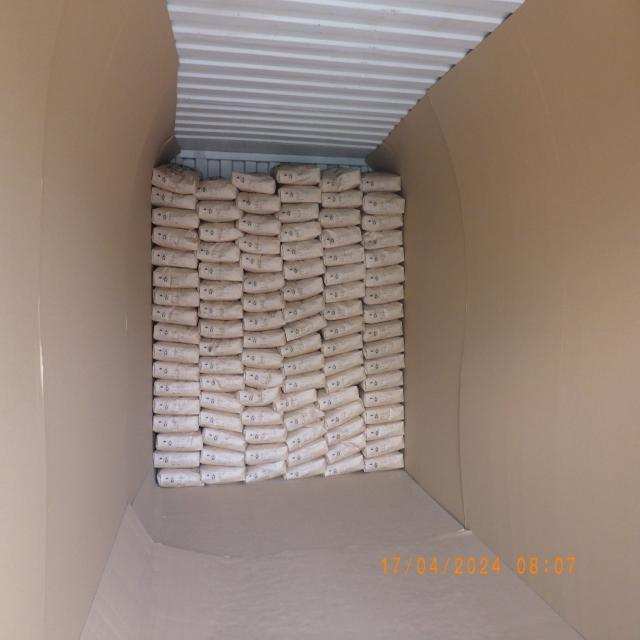gunny_bag: (278, 295, 324, 328), (152, 165, 200, 194), (285, 419, 327, 452), (326, 432, 367, 465), (324, 401, 366, 432), (326, 364, 368, 394), (288, 438, 330, 468), (151, 227, 201, 252), (326, 415, 366, 446), (286, 313, 328, 342), (282, 404, 322, 434), (198, 408, 244, 434), (318, 384, 362, 411), (202, 428, 249, 453), (279, 333, 322, 360), (324, 348, 364, 377), (151, 188, 199, 212), (270, 387, 316, 412), (199, 389, 245, 414), (154, 341, 200, 366), (280, 276, 324, 302), (153, 245, 200, 269), (323, 314, 366, 340), (196, 201, 244, 224), (234, 190, 280, 214), (152, 207, 200, 230), (238, 212, 284, 236), (154, 323, 202, 346), (153, 266, 201, 289), (280, 351, 324, 376), (363, 336, 405, 362), (154, 432, 203, 454), (324, 263, 367, 288), (194, 241, 240, 264), (362, 192, 406, 216), (152, 359, 200, 381), (320, 168, 364, 192), (278, 222, 322, 246), (152, 286, 200, 308), (322, 333, 364, 358), (325, 452, 365, 478), (197, 300, 244, 322), (232, 171, 276, 194), (198, 280, 244, 302), (241, 272, 285, 295), (276, 164, 322, 186), (238, 234, 284, 256), (153, 304, 199, 326), (282, 239, 326, 262), (202, 446, 248, 468), (198, 262, 244, 284), (362, 370, 406, 393), (244, 292, 288, 315), (284, 258, 326, 282), (284, 370, 326, 394), (246, 459, 288, 483), (364, 435, 404, 460), (247, 443, 290, 466), (195, 177, 238, 200), (321, 227, 364, 250), (363, 302, 404, 326), (363, 318, 404, 342), (244, 310, 288, 332), (243, 347, 287, 369), (242, 254, 286, 276), (324, 280, 366, 303), (286, 457, 328, 480), (364, 246, 404, 270), (364, 264, 404, 288), (154, 378, 202, 398), (360, 171, 403, 193), (242, 406, 285, 428), (198, 223, 243, 244), (198, 318, 243, 339), (276, 202, 320, 223), (244, 368, 286, 390), (320, 207, 362, 229), (362, 230, 404, 252), (324, 244, 366, 266), (364, 352, 406, 374), (323, 299, 365, 321), (362, 386, 404, 408), (236, 386, 282, 406), (198, 338, 244, 358), (202, 464, 248, 484), (198, 354, 244, 374), (200, 373, 246, 393), (364, 282, 404, 305), (153, 414, 199, 434), (155, 470, 204, 488), (244, 330, 288, 350), (246, 424, 290, 444), (364, 404, 404, 426), (278, 184, 322, 204), (364, 450, 404, 472), (365, 419, 405, 441), (154, 450, 200, 469), (152, 398, 200, 416), (321, 190, 364, 210), (362, 213, 404, 230)
